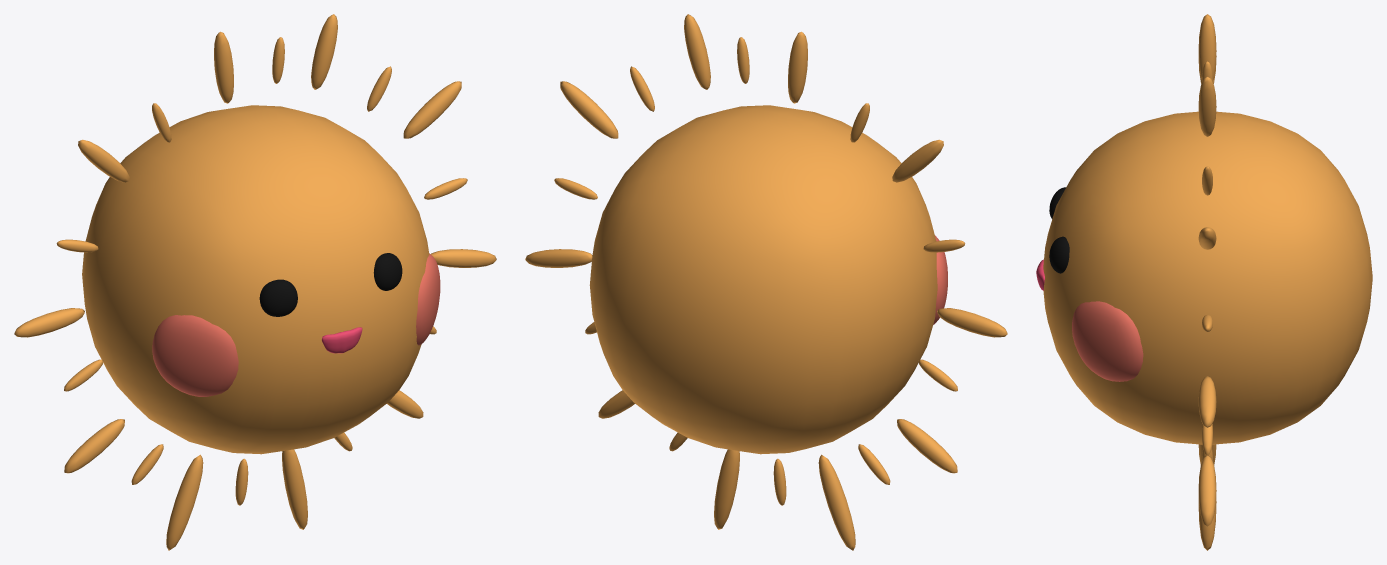
The model's file is sunfile.fbx.
3 views of the same model, side by side, from view 1: azimuth 30°, elevation 25°; view 2: azimuth 150°, elevation 25°; view 3: azimuth 270°, elevation 25° (orthographic). The views are drawn at different scales.
Visible parts, largest first — view 1: Sun, Ray, Blush, Eyes, Mouth; view 2: Sun, Ray, Blush; view 3: Sun, Ray, Blush, Eyes.
Part boxes in pixels (x1,y1,x2,y2): Sun: [82, 105, 429, 454]; Ray: [14, 14, 496, 550]; Blush: [152, 253, 440, 396]; Eyes: [259, 253, 402, 316]; Mouth: [322, 327, 362, 353]; Sun: [589, 105, 937, 454]; Ray: [525, 14, 1007, 550]; Blush: [933, 235, 947, 324]; Sun: [1043, 111, 1372, 444]; Ray: [1198, 14, 1216, 550]; Blush: [1072, 301, 1143, 381]; Eyes: [1049, 187, 1069, 273].
Size of the model in its own units: 121 by 124 by 76.06.
